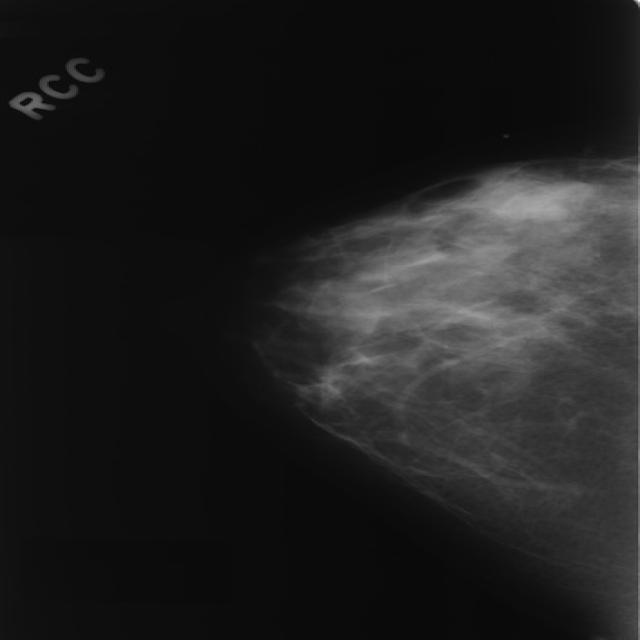tumour: (484, 177, 589, 220)
